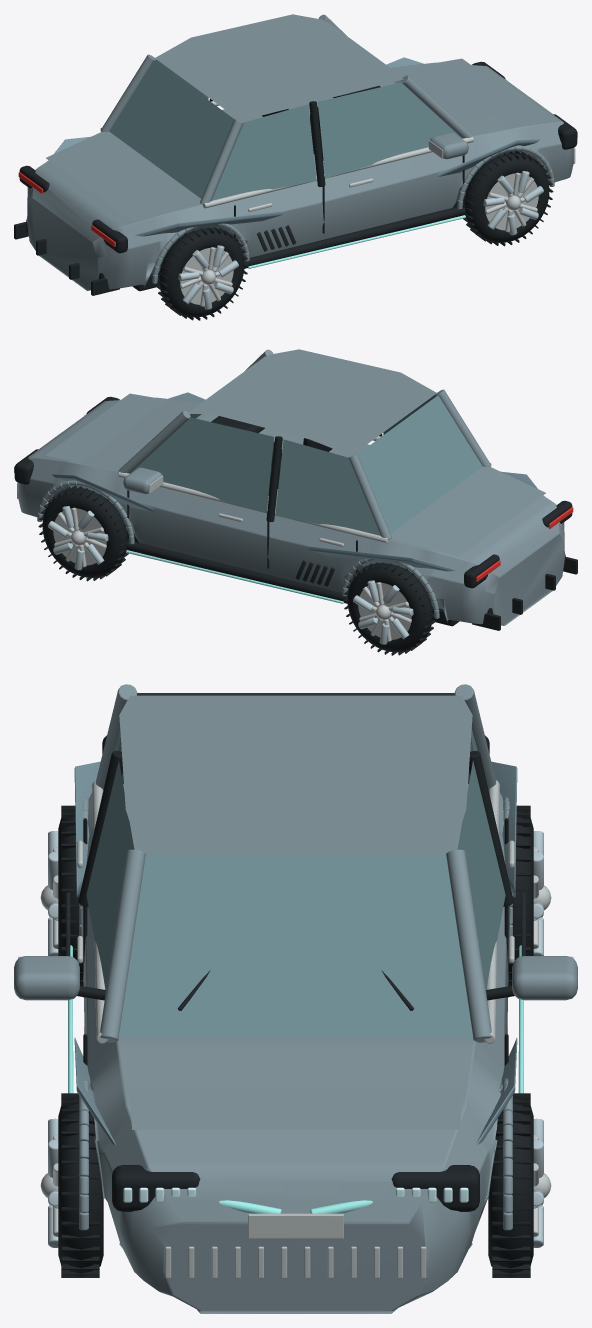
The model's file is FutureSedan.fbx.
3 renders of one model, top to bottom at view 1: azimuth 30°, elevation 25°; view 2: azimuth 150°, elevation 25°; view 3: azimuth 270°, elevation 25°, orthographic. The views are drawn at different scales.
Visible parts, largest first — view 1: BodyPaint, Glazing, TrimRubber, TrimRubber.002, TrimRubber.001, BodyPaintFuture, BrushedAlloy.001, BrushedAlloy.002, BrushedAlloy, BrushedAlloyFuture, BrushedAlloyFuture.001, HeadlampFuture (+1 smaller); view 2: BodyPaint, Glazing, TrimRubber, TrimRubber.004, TrimRubber.003, BodyPaintFuture, BrushedAlloy.003, BrushedAlloy.004, BrushedAlloy, BrushedAlloyFuture.002, BrushedAlloyFuture.003, HeadlampFuture (+1 smaller); view 3: BodyPaint, Glazing, TrimRubber, BrushedAlloy, TrimRubber.004, TrimRubber.002, BodyPaintFuture, TrimRubber.001, TrimRubber.003, HeadlampFuture, Headlamp, BrushedAlloyFuture.001 (+3 smaller).
Part boxes in pixels (left/top/right/bottom): BodyPaint: left=27, top=14, right=573, bottom=290; Glazing: left=109, top=59, right=461, bottom=200; TrimRubber: left=14, top=61, right=577, bottom=295; TrimRubber.002: left=462, top=150, right=553, bottom=246; TrimRubber.001: left=156, top=227, right=248, bottom=320; BodyPaintFuture: left=54, top=57, right=539, bottom=237; BrushedAlloy.001: left=180, top=247, right=233, bottom=306; BrushedAlloy.002: left=485, top=172, right=540, bottom=232; BrushedAlloy: left=100, top=97, right=575, bottom=211; BrushedAlloyFuture: left=178, top=245, right=238, bottom=309; BrushedAlloyFuture.001: left=483, top=171, right=543, bottom=235; HeadlampFuture: left=248, top=215, right=465, bottom=268; BodyPaint: left=18, top=349, right=564, bottom=625; Glazing: left=130, top=394, right=482, bottom=535; TrimRubber: left=14, top=396, right=577, bottom=630; TrimRubber.004: left=38, top=485, right=129, bottom=581; TrimRubber.003: left=343, top=562, right=435, bottom=655; BodyPaintFuture: left=52, top=392, right=537, bottom=572; BrushedAlloy.003: left=358, top=582, right=411, bottom=641; BrushedAlloy.004: left=51, top=507, right=106, bottom=567; BrushedAlloy: left=17, top=432, right=491, bottom=546; BrushedAlloyFuture.002: left=353, top=580, right=413, bottom=644; BrushedAlloyFuture.003: left=48, top=506, right=108, bottom=570; HeadlampFuture: left=126, top=550, right=343, bottom=603; BodyPaint: left=14, top=684, right=577, bottom=1313; Glazing: left=86, top=693, right=505, bottom=1037; TrimRubber: left=77, top=735, right=514, bottom=1211; BrushedAlloy: left=18, top=780, right=573, bottom=1278; TrimRubber.004: left=488, top=1093, right=533, bottom=1277; TrimRubber.002: left=58, top=1093, right=103, bottom=1277; BodyPaintFuture: left=74, top=761, right=517, bottom=1145; TrimRubber.001: left=58, top=805, right=83, bottom=986; TrimRubber.003: left=508, top=805, right=533, bottom=986; HeadlampFuture: left=68, top=945, right=523, bottom=1213; Headlamp: left=123, top=1187, right=468, bottom=1202; BrushedAlloyFuture.001: left=48, top=1118, right=58, bottom=1247.
Bounding box in the file's own units: 513 × 183 × 265.
